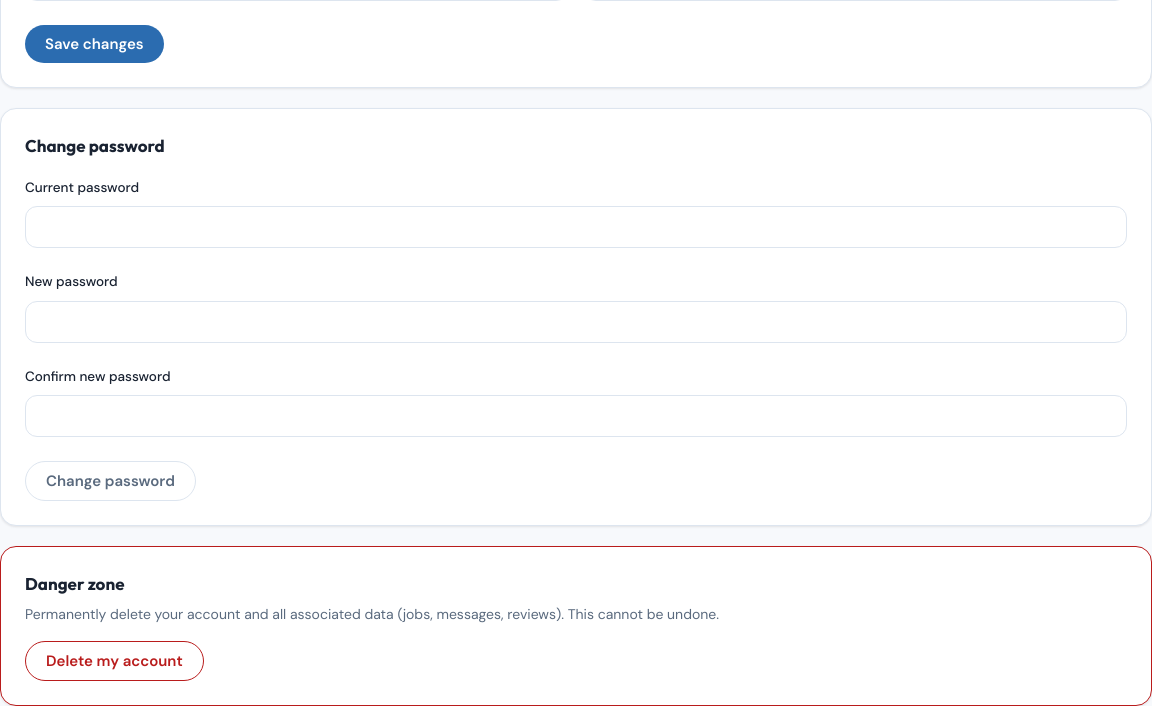
Test: Profile page › account deletion › the confirmation form is hidden until "Delete my account" is clicked
This screenshot has width=1152, height=706.
(page scrolled)
Expected: the field labelled "enter your password to confirm" is not shown
Click the button "Delete my account".
click(114, 661)  # box left=25, top=641, right=204, bottom=681
(page scrolled)
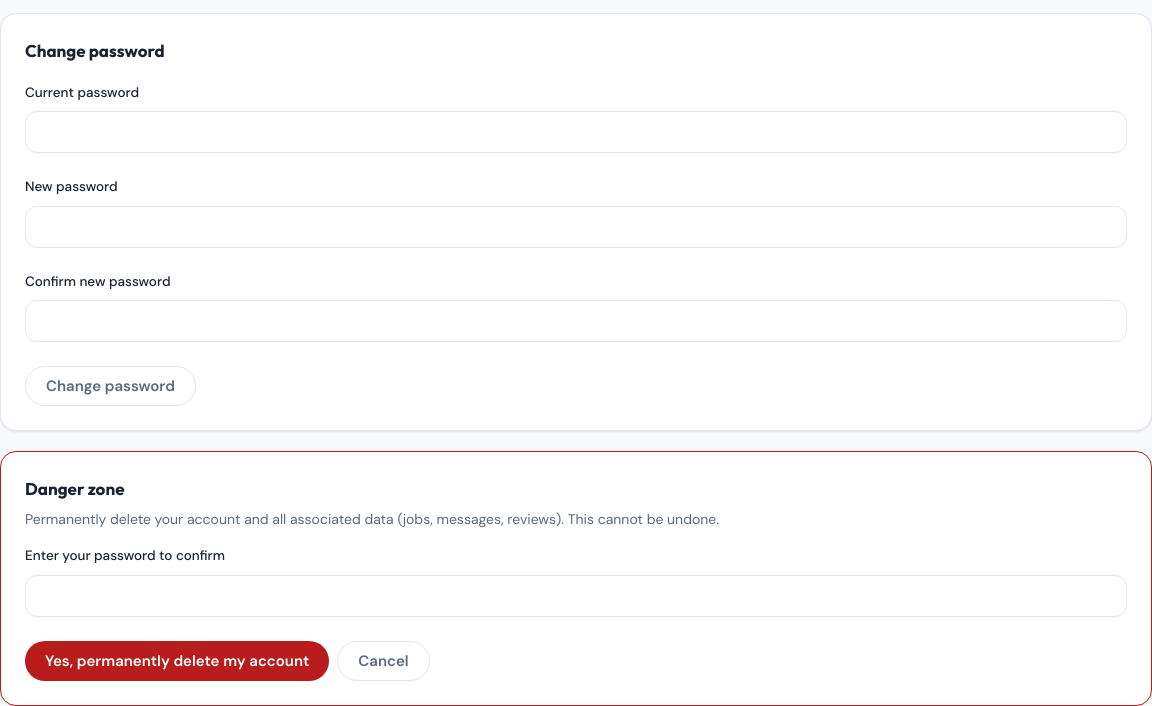
Expected: the password field labelled "Enter your password to confirm" is shown, left=25, top=574, right=1127, bottom=616
